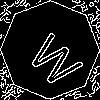W: (25, 25, 91, 91)
